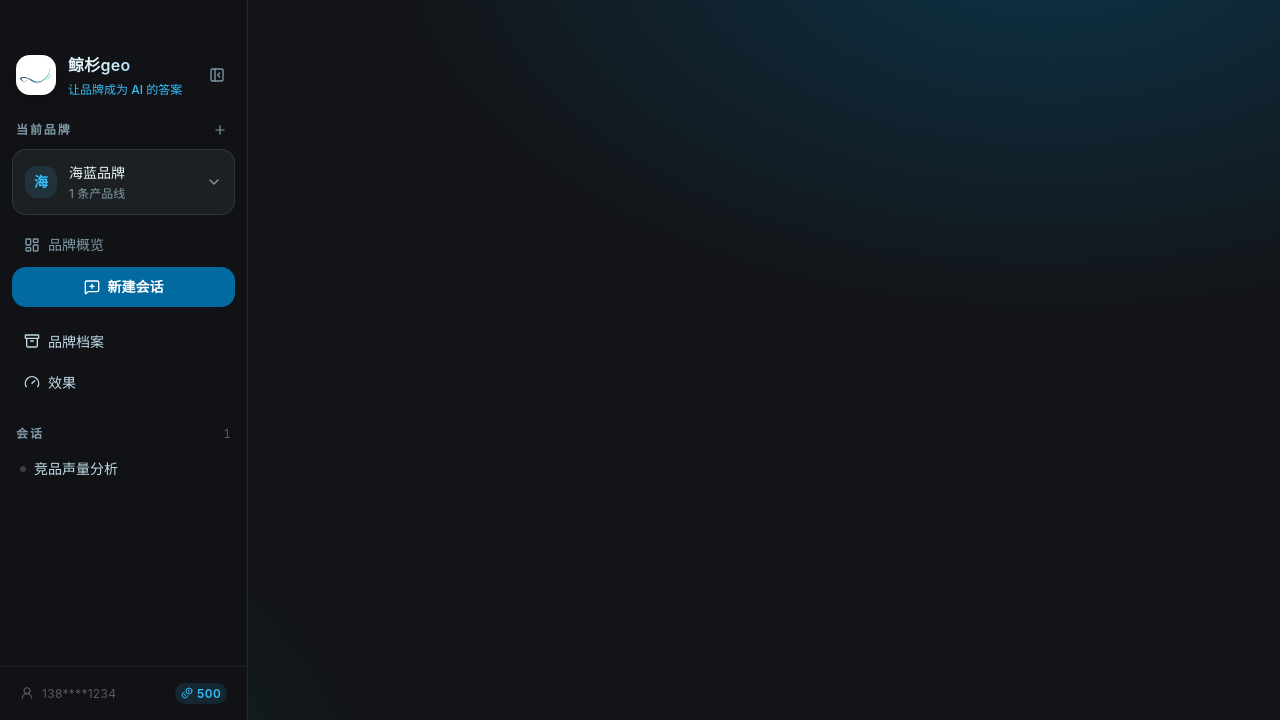
it: XiaojingSidebar brand session lifecycle › opens the personal-info panel from the footer account button
Click the button named "个人信息" at (124, 693), box [12,675,235,712]
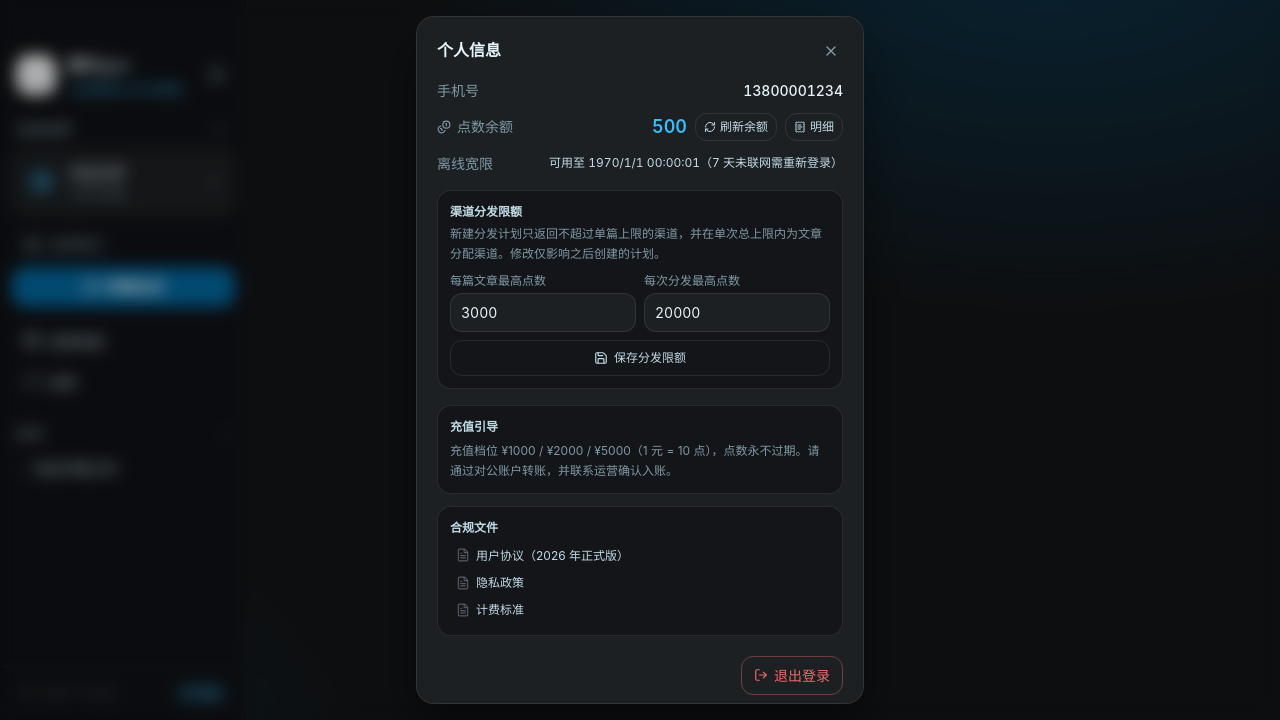
Expected: the text "13800001234" is shown, [743,80,843,101]
Expected: the text "充值引导" is shown, [450,419,498,434]
Expected: the button "退出登录" is shown, [741,656,843,695]
